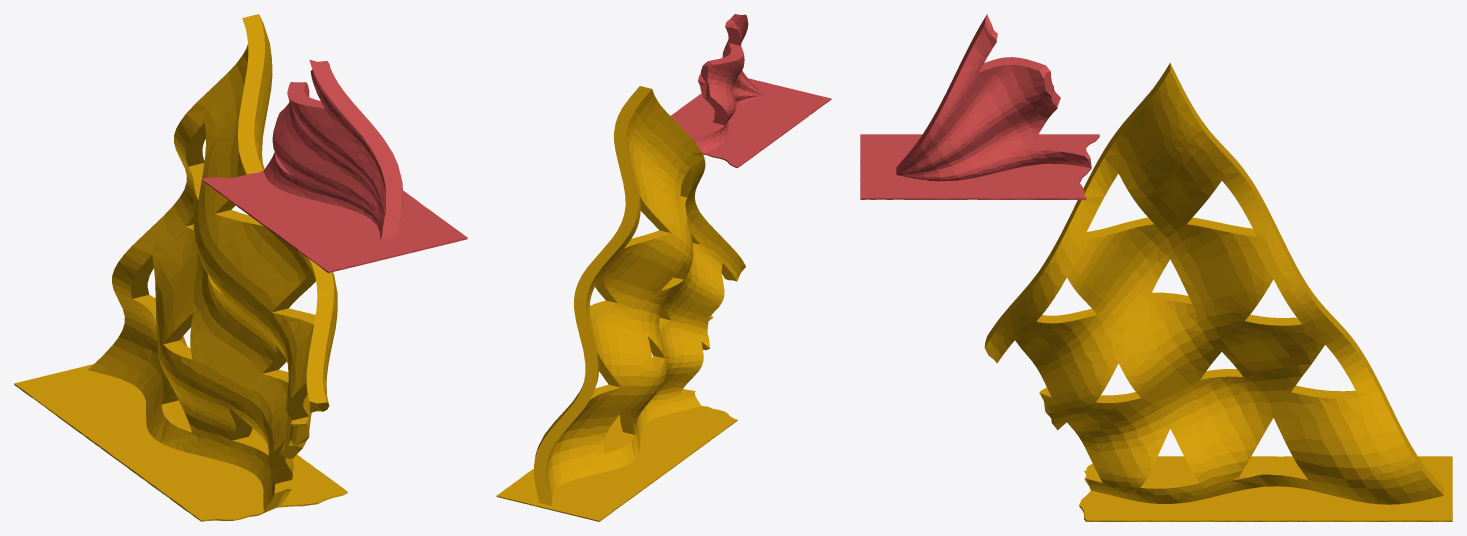
File: fractured_59_2pcs_transformed.glb
The picture shows the model from 3 angles, left to right: view 1: azimuth 30°, elevation 25°; view 2: azimuth 150°, elevation 25°; view 3: azimuth 270°, elevation 25°; orthographic projection. The views are drawn at different scales.
Parts seen in each view (by area): view 1: piece_0.obj, piece_1.obj; view 2: piece_0.obj, piece_1.obj; view 3: piece_0.obj, piece_1.obj.
Part boxes in pixels (bbox=[...]): piece_0.obj: bbox=[14, 14, 347, 521]; piece_1.obj: bbox=[201, 59, 467, 273]; piece_0.obj: bbox=[496, 86, 745, 521]; piece_1.obj: bbox=[671, 14, 831, 167]; piece_0.obj: bbox=[984, 63, 1452, 521]; piece_1.obj: bbox=[860, 14, 1099, 199].
Bounding box in the file's own units: 0.2564 × 0.8682 × 1.
